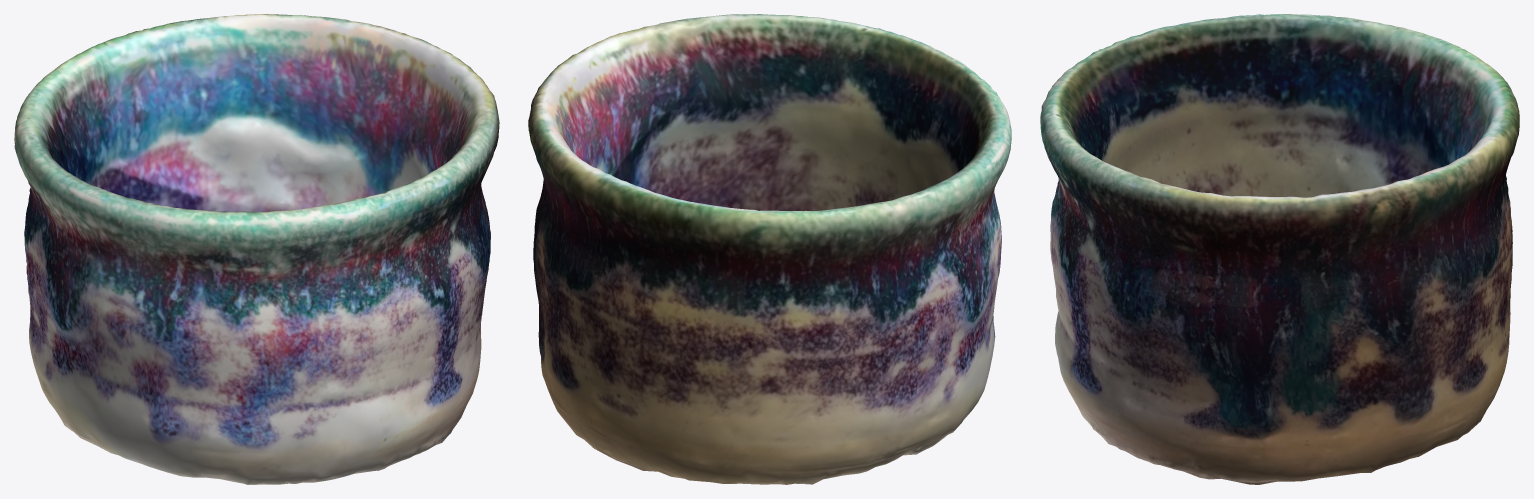
Rendered from little-sister.glb.
The picture shows the model from 3 angles, left to right: view 1: azimuth 30°, elevation 25°; view 2: azimuth 150°, elevation 25°; view 3: azimuth 270°, elevation 25°; orthographic projection.
Bounding box in the file's own units: 0.0742 × 0.051 × 0.0731.
1 material, 1 textured.
